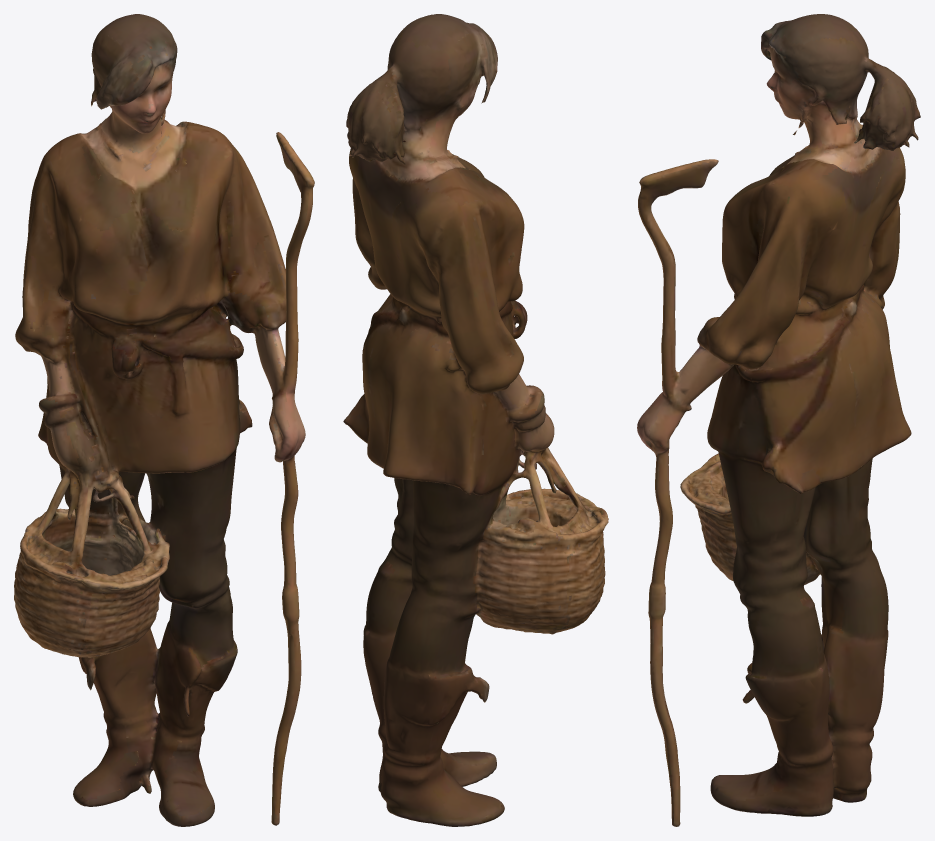
The model's file is peasant1.glb.
The picture shows the model from 3 angles, left to right: view 1: azimuth 30°, elevation 25°; view 2: azimuth 150°, elevation 25°; view 3: azimuth 270°, elevation 25°; orthographic projection. The views are drawn at different scales.
Bounding box in the file's own units: 0.6599 × 1.99 × 0.6604.
1 material, 1 textured.
